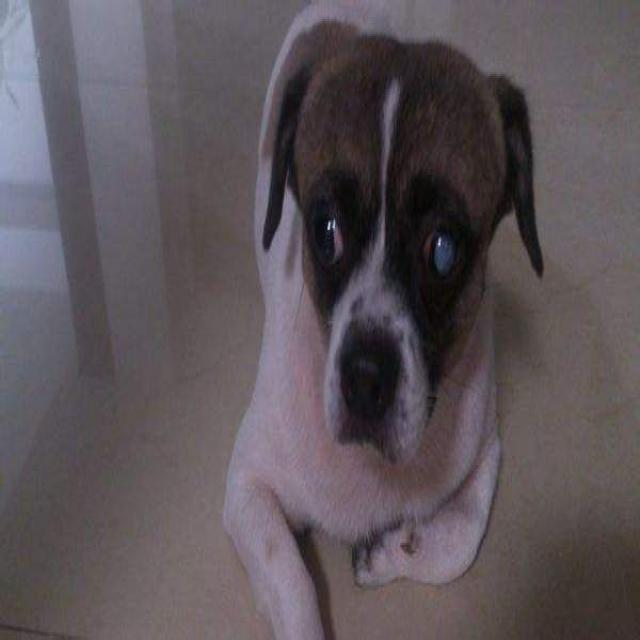eye: (416, 215, 464, 291), (304, 196, 350, 274)
